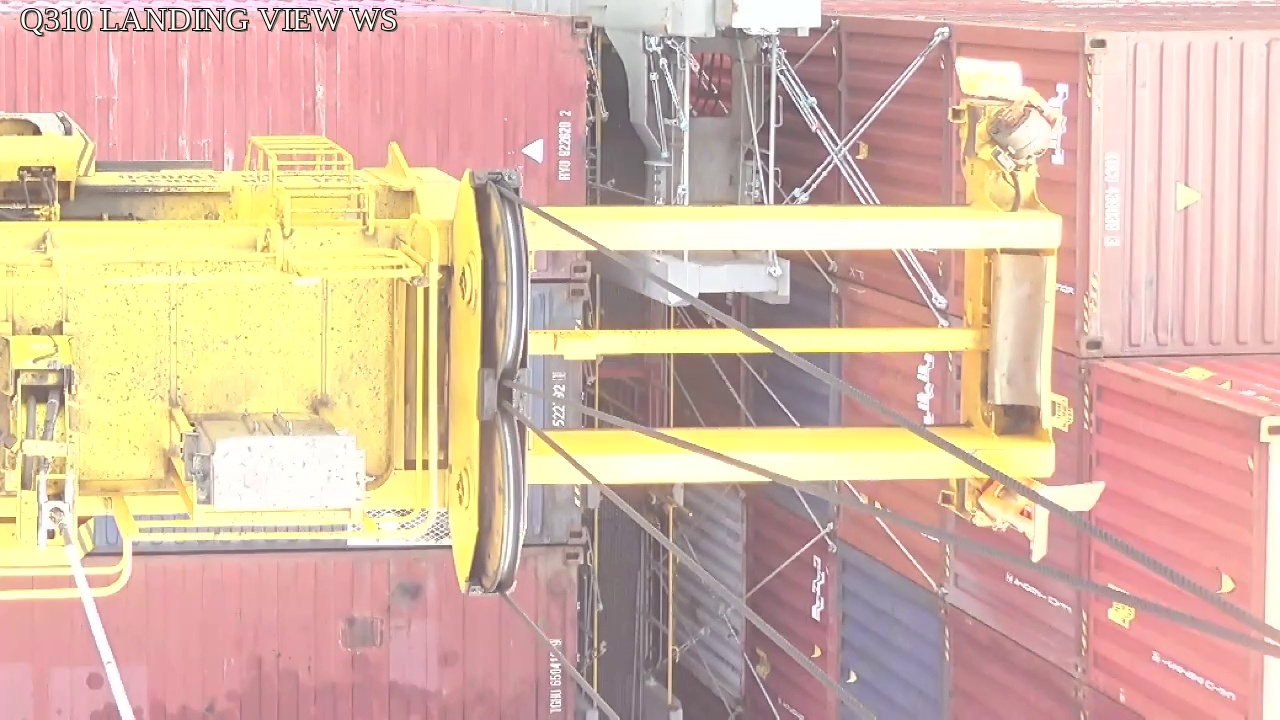right: (444, 169, 530, 593)
